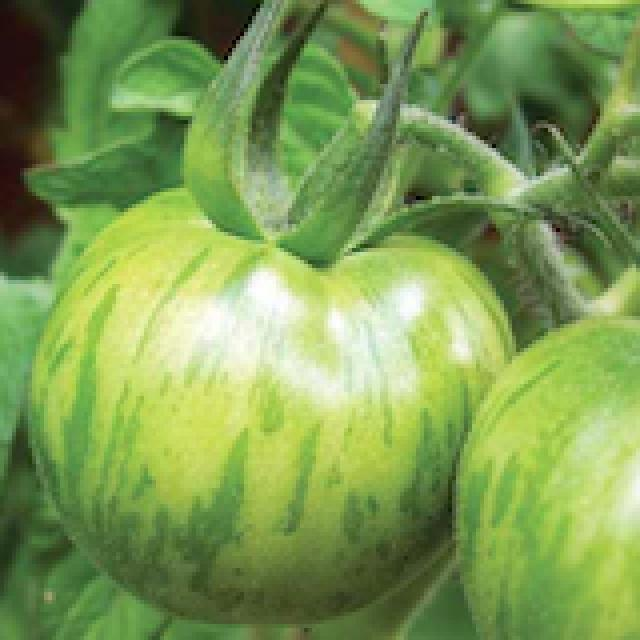yesil: (34, 147, 531, 613)
